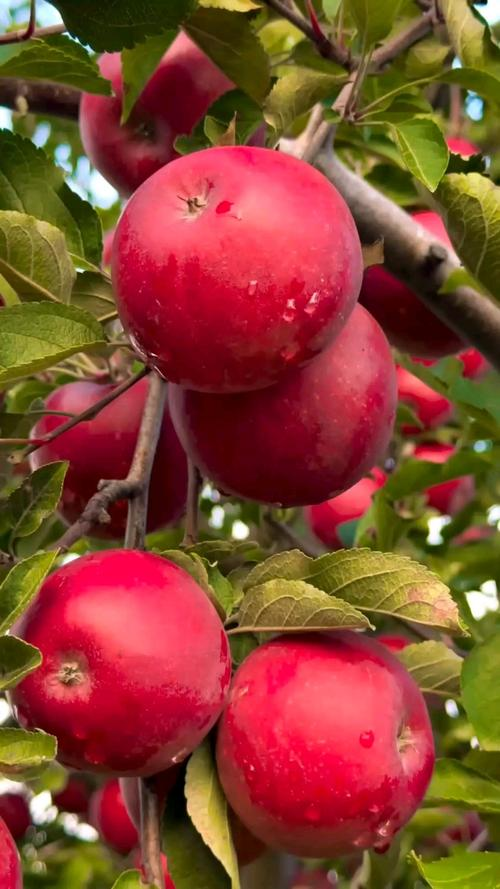ripe: (104, 150, 356, 406), (197, 633, 447, 857), (159, 286, 408, 510), (0, 549, 229, 773), (68, 23, 288, 204), (25, 374, 204, 537)
